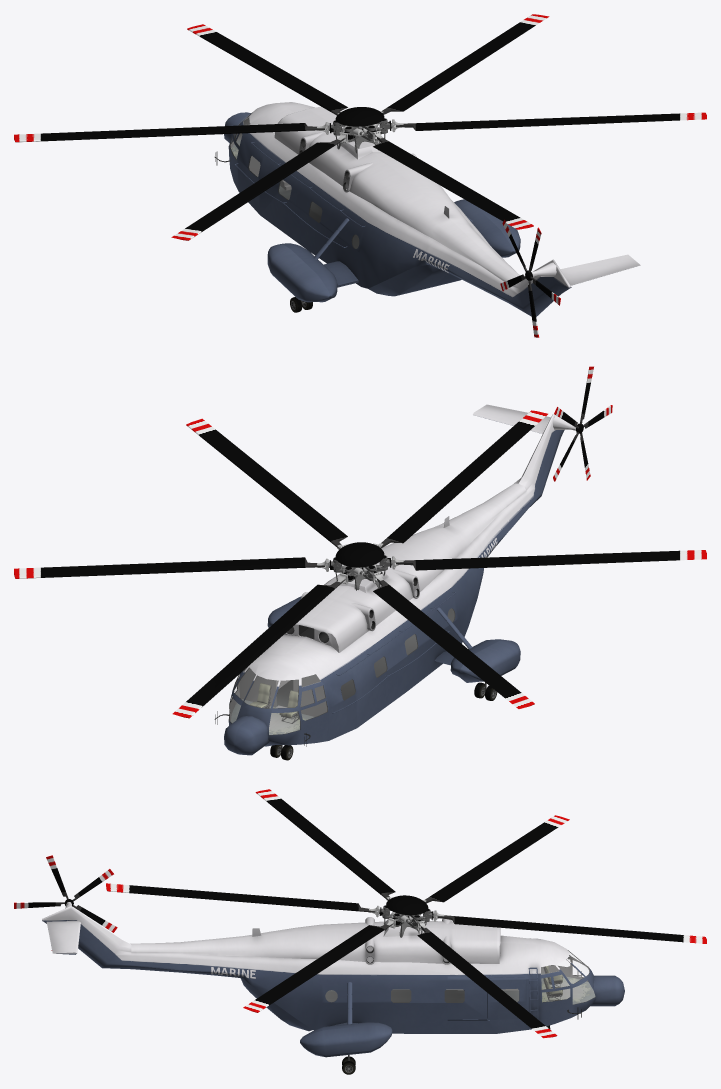
3 renders of one model, top to bottom at view 1: azimuth 30°, elevation 25°; view 2: azimuth 150°, elevation 25°; view 3: azimuth 270°, elevation 25°, orthographic. The views are drawn at different scales.
Visible parts, largest first — view 1: A_z8; view 2: A_z8; view 3: A_z8.
Part boxes in pixels (left/top/right/bottom): A_z8: left=14, top=14, right=706, bottom=337; A_z8: left=14, top=366, right=706, bottom=760; A_z8: left=14, top=789, right=706, bottom=1074.
Size of the model in its own units: 50.47 by 17.22 by 65.02.
Materials: 9 (7 with a texture image).
